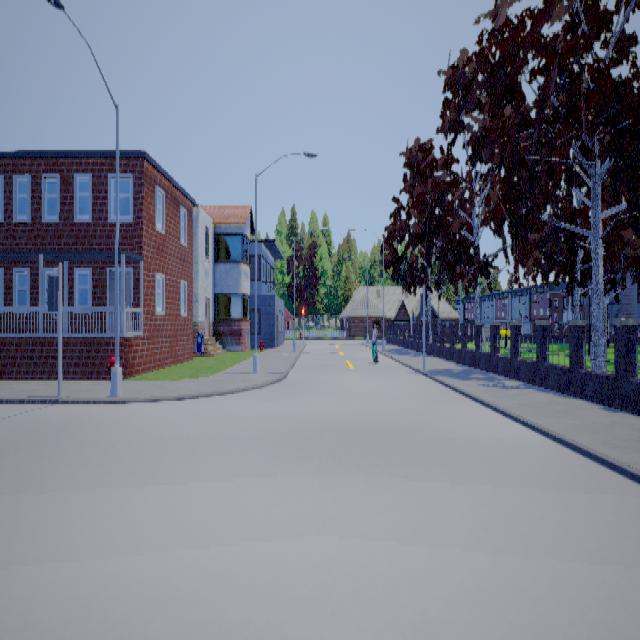bike: (367, 322, 383, 364)
